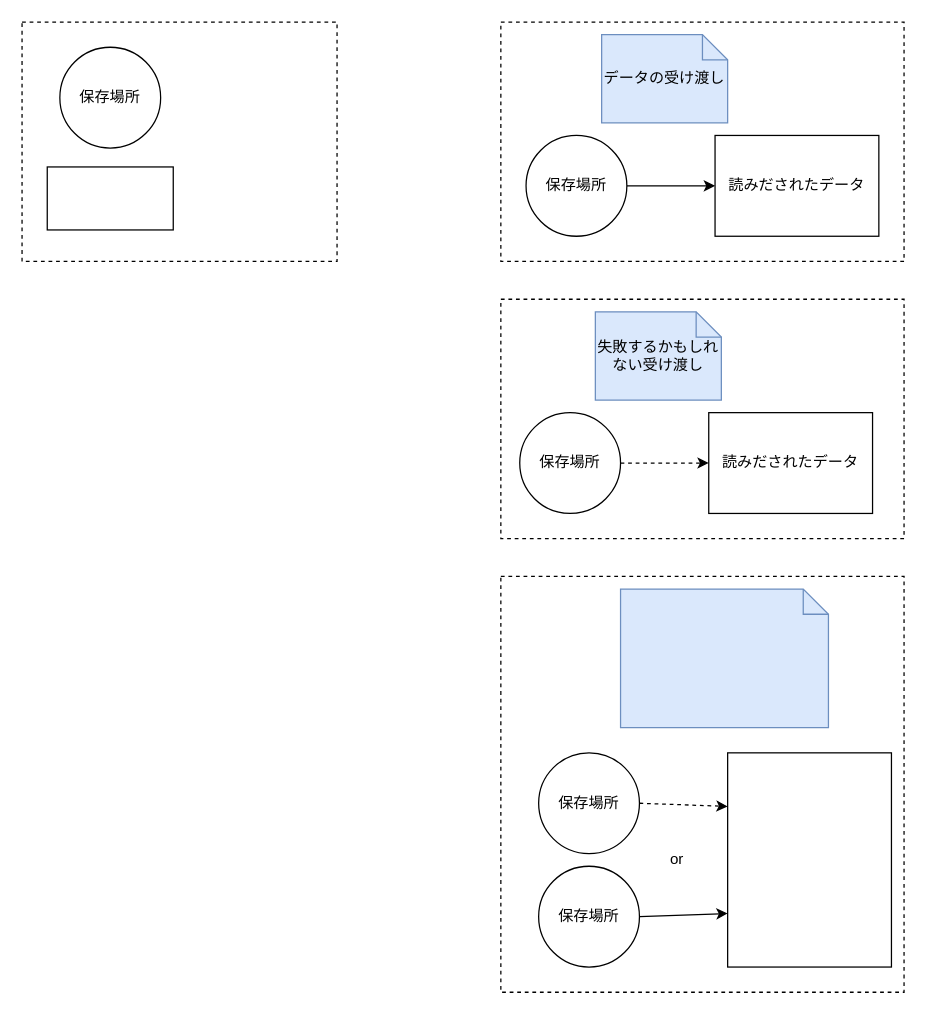
Some shapes in this 926 by 1014 pixel diagram are drawn without their labels. The shapes that lost their labels are listed below. From the top down, each one's centre as x and y in pixels, then its label:
At point 109,198: "データ - プロパティ: 型 - ...".
At point 723,658: "「失敗するかもしれない受け渡し」 が失敗したら 破線でない矢印から読まれる".
At point 808,859: "Result - ...".
